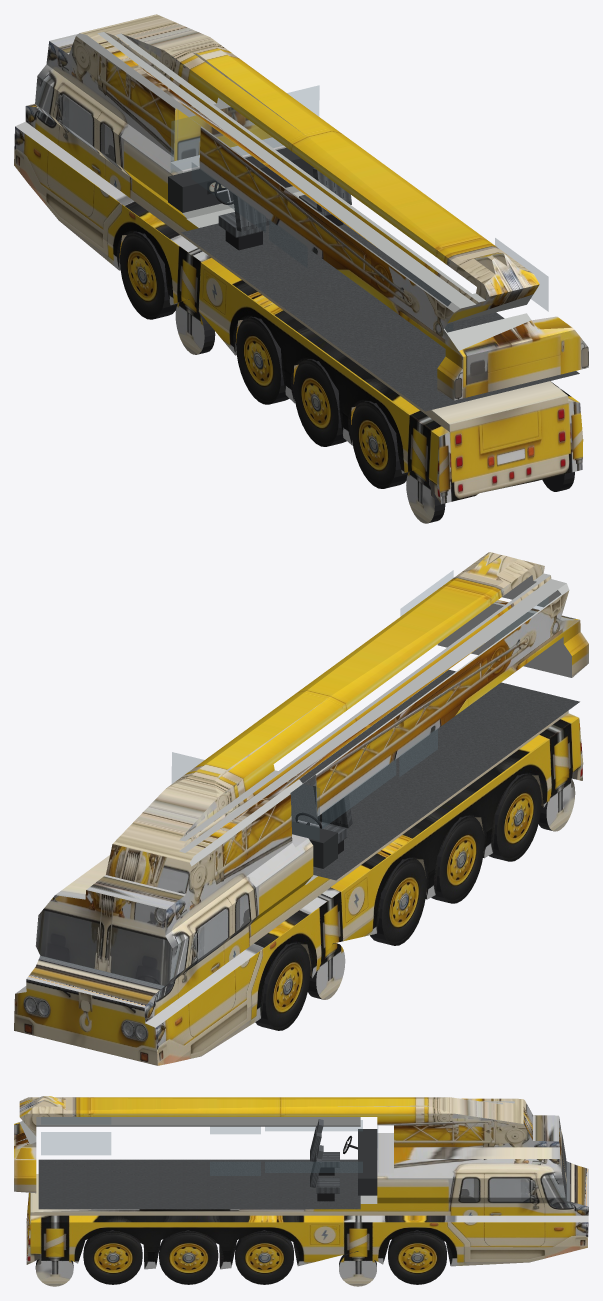
The model's file is mobile_crane.glb.
3 renders of one model, top to bottom at view 1: azimuth 30°, elevation 25°; view 2: azimuth 150°, elevation 25°; view 3: azimuth 270°, elevation 25°, orthographic. The views are drawn at different scales.
Parts seen in each view (by area): view 1: mobile_crane, mobile_crane_cabin, wheel_M4L, wheel_FL, wheel_M2L, wheel_M3L, wheel_M1L, wheel_BL; view 2: mobile_crane, mobile_crane_cabin, wheel_M2L, wheel_FL, wheel_M4L, wheel_M3L, wheel_M1L, wheel_BL; view 3: mobile_crane, mobile_crane_cabin, wheel_M2R, wheel_M4R, wheel_FR, wheel_M3R, wheel_M1R, wheel_BR.
Boxes of the visible parts, x1,y1,x2,y2 form: mobile_crane: [14, 14, 588, 504]; mobile_crane_cabin: [168, 85, 579, 411]; wheel_M4L: [351, 401, 408, 488]; wheel_FL: [120, 231, 177, 319]; wheel_M2L: [236, 316, 289, 404]; wheel_M3L: [294, 359, 346, 446]; wheel_M1L: [175, 299, 215, 354]; wheel_BL: [406, 469, 445, 523]; mobile_crane: [14, 552, 588, 1065]; mobile_crane_cabin: [172, 570, 579, 880]; wheel_M2L: [370, 858, 426, 945]; wheel_FL: [255, 943, 310, 1030]; wheel_M4L: [489, 774, 541, 861]; wheel_M3L: [431, 815, 484, 903]; wheel_M1L: [308, 943, 345, 999]; wheel_BL: [538, 776, 575, 831]; mobile_crane: [14, 1096, 588, 1269]; mobile_crane_cabin: [38, 1117, 377, 1209]; wheel_M2R: [235, 1230, 293, 1284]; wheel_M4R: [83, 1230, 142, 1284]; wheel_FR: [388, 1230, 446, 1284]; wheel_M3R: [159, 1230, 218, 1284]; wheel_M1R: [339, 1251, 376, 1286]; wheel_BR: [35, 1252, 73, 1286].
Bounding box in the file's own units: 2.45 × 3.84 × 11.98.
12 materials, 4 textured.
